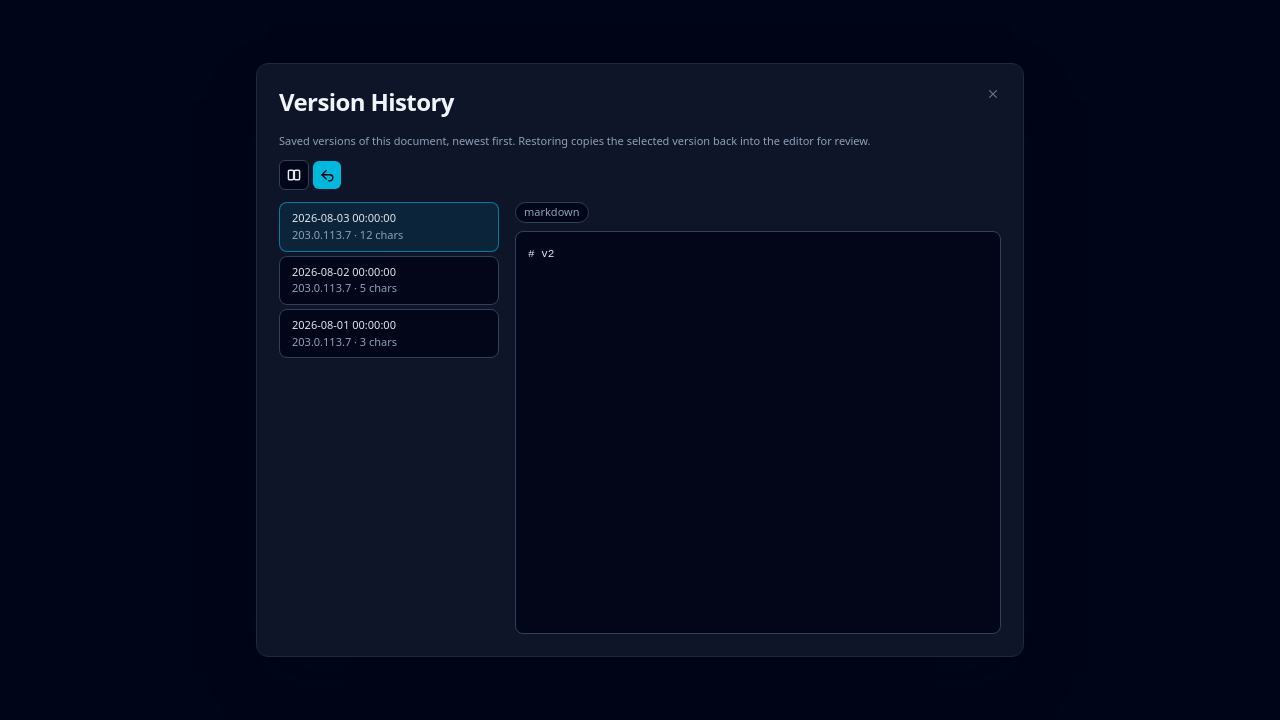
Test: HistoryDialog › loads the content of the selected version
The width and height of the screenshot is (1280, 720).
Expected: the text "# v2" is shown, [515,231,1001,634]
Step 1. Click the text "203.0.113.7 · 5 chars" → {"x": 345, "y": 288}, box [292,280,397,295]
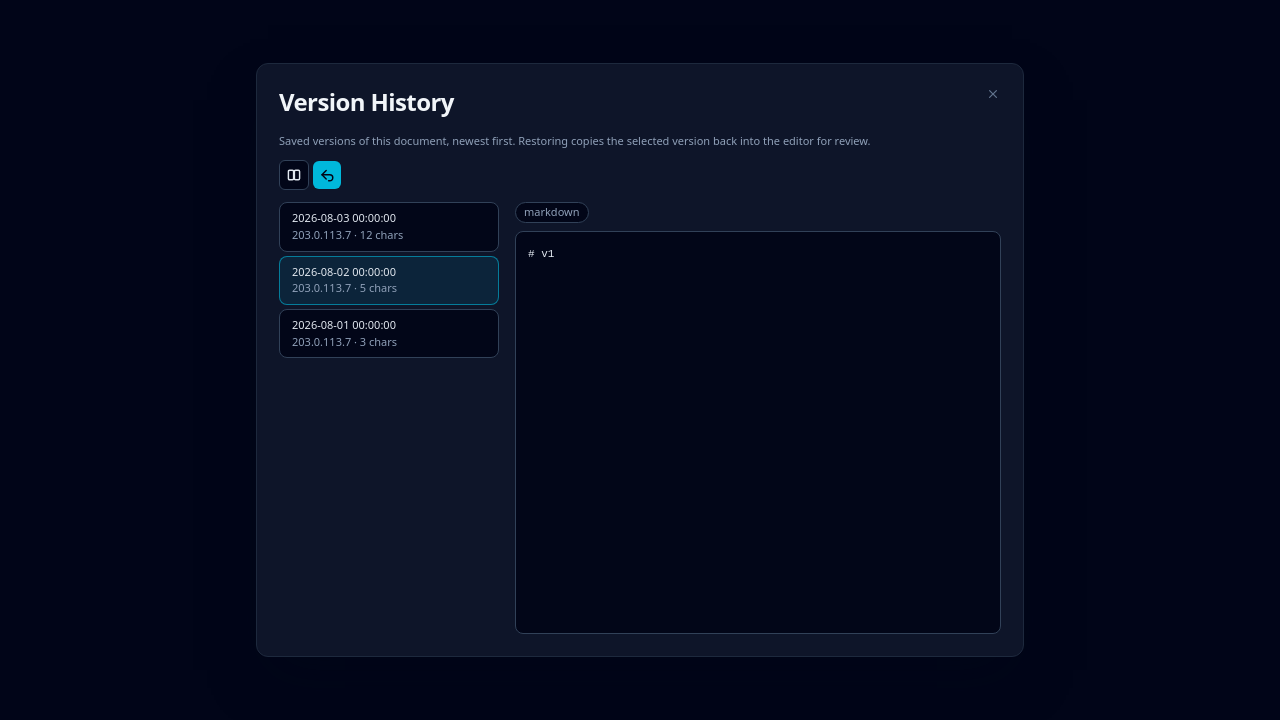
Expected: the text "# v1" is shown, [515,231,1001,634]
